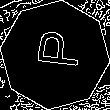P_W: (28, 34, 82, 76)
